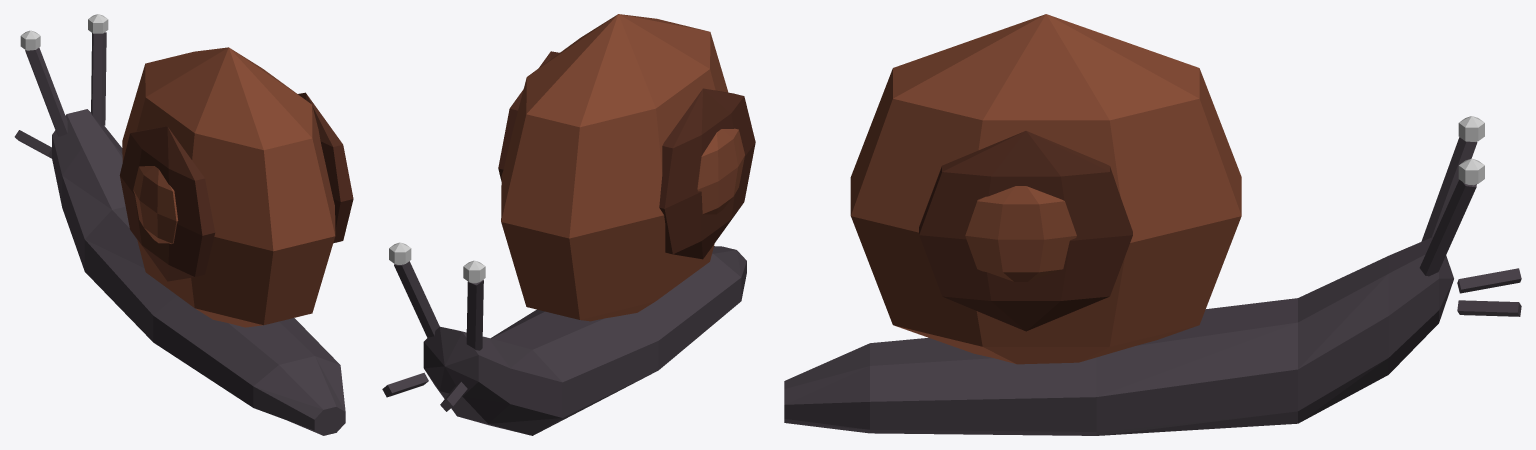
File: animal_lavasnail.obj
3 renders of one model, left to right at view 1: azimuth 30°, elevation 25°; view 2: azimuth 150°, elevation 25°; view 3: azimuth 270°, elevation 25°, orthographic. The views are drawn at different scales.
Parts seen in each view (by area): view 1: animal_lavasnail; view 2: animal_lavasnail; view 3: animal_lavasnail.
Part boxes in pixels (<box>): animal_lavasnail: <box>14,14,353,435</box>; animal_lavasnail: <box>382,14,755,435</box>; animal_lavasnail: <box>784,14,1521,435</box>.
Size of the model in its own units: 0.4812 by 0.8045 by 1.32.
